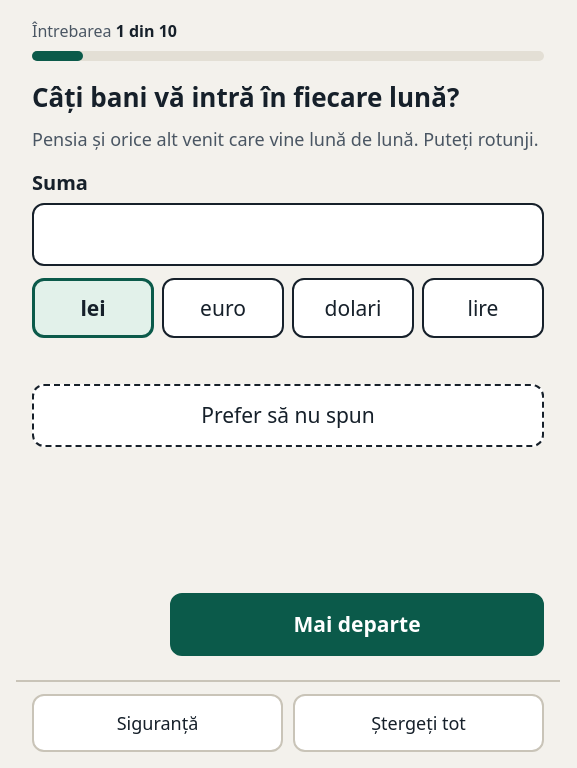
Test: pornirea si salvarea › o salvare refuzata este anuntata, iar chestionarul merge mai departe
In the field labelled "Suma": (288, 234) [32,203,544,266], type "3000"
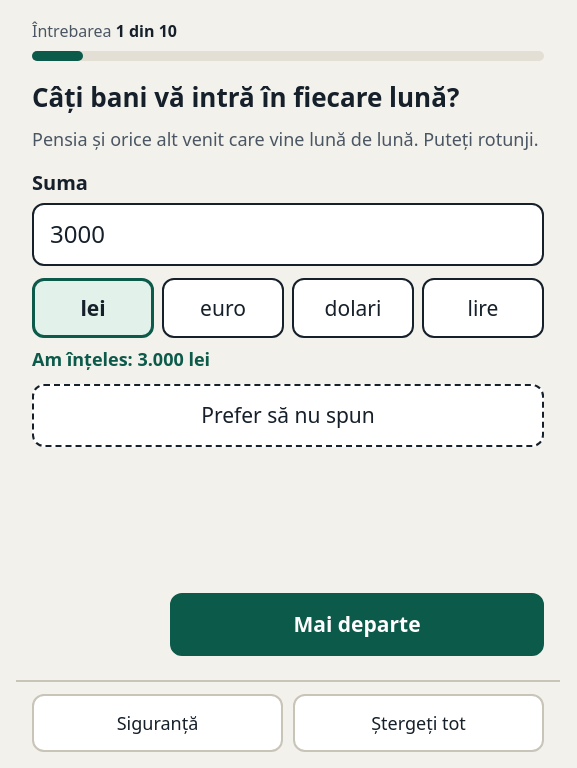
Click the button "Mai departe": click(357, 625) [170,594,544,656]
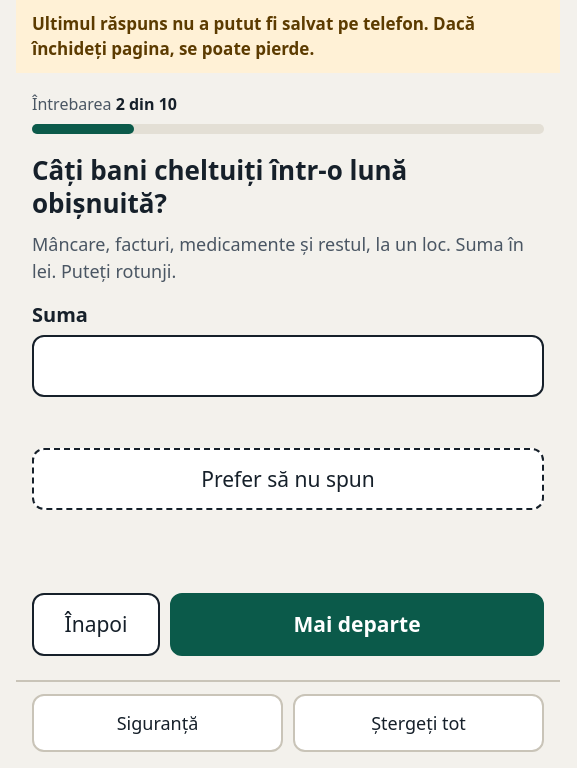
expect the 1st message shows "nu a putut fi salvat": met, box [32,12,475,60]
expect the text "2 din 10" is shown: met, box [116,93,177,115]
